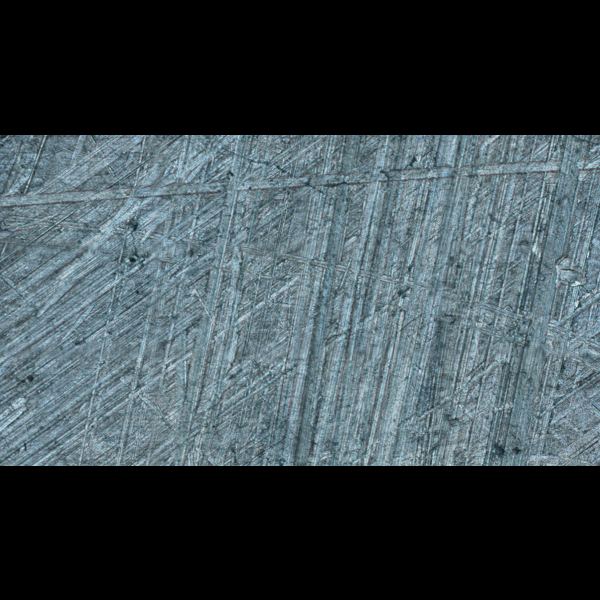d: (0, 205, 599, 378), (166, 134, 304, 464), (0, 143, 600, 214)
